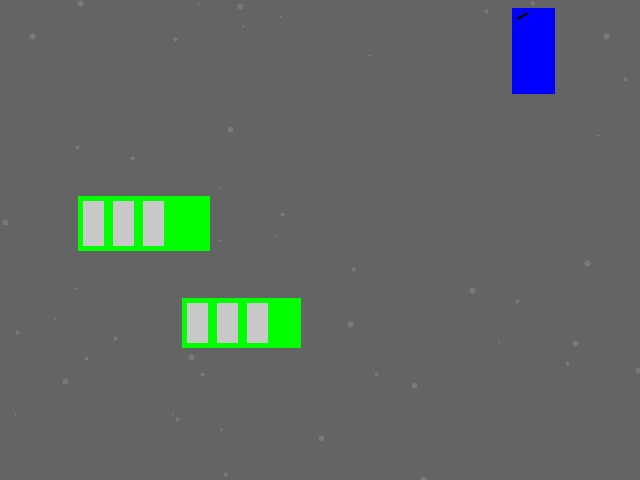bus: (78, 196, 209, 250), (182, 298, 300, 347)
motorcycle: (512, 8, 554, 93)
